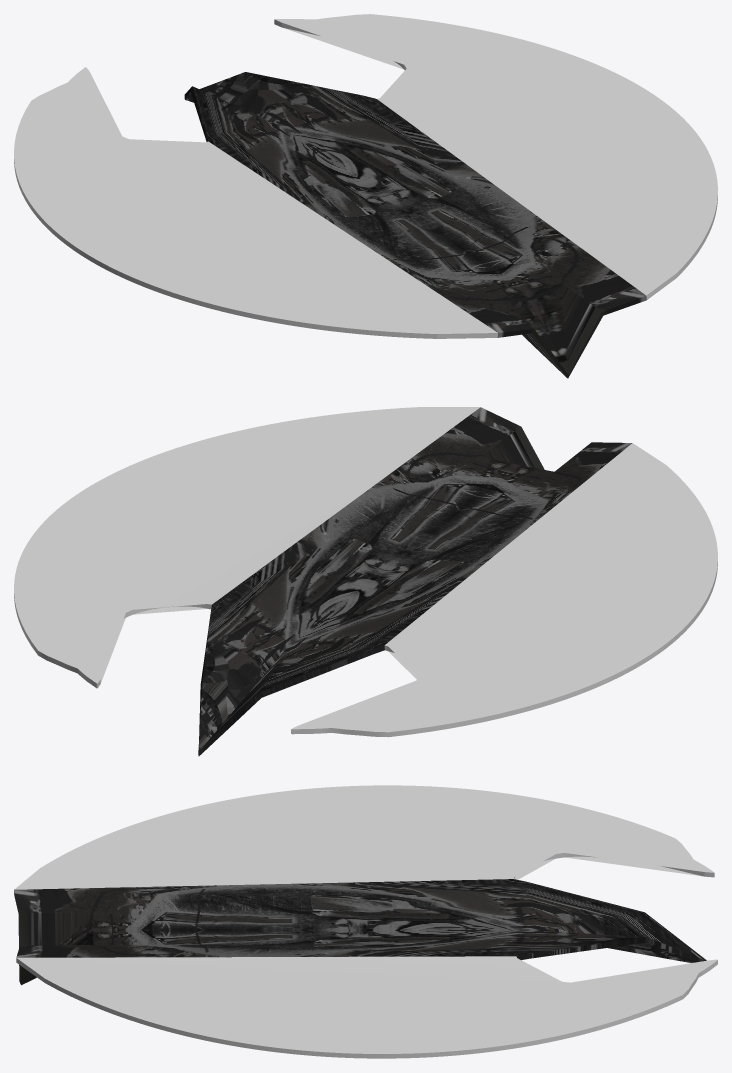
Rendered from rocket 8.fbx.
3 renders of one model, top to bottom at view 1: azimuth 30°, elevation 25°; view 2: azimuth 150°, elevation 25°; view 3: azimuth 270°, elevation 25°, orthographic. The views are drawn at different scales.
Visible parts, largest first — view 1: Plane.011, Plane.010, Plane.007; view 2: Plane.011, Plane.010, Plane.007; view 3: Plane.010, Plane.011, Plane.007.
Part boxes in pixels (box(x1,y1,x2,y2)): Plane.011: box(14, 67, 498, 338); Plane.010: box(274, 14, 717, 299); Plane.007: box(184, 72, 646, 378); Plane.011: box(291, 443, 717, 737); Plane.010: box(14, 407, 480, 688); Plane.007: box(198, 407, 631, 756); Plane.010: box(16, 956, 717, 1058); Plane.011: box(14, 785, 714, 889); Plane.007: box(14, 879, 706, 985).
Size of the model in its own units: 215 by 23.5 by 238.
1 material, 1 textured.
